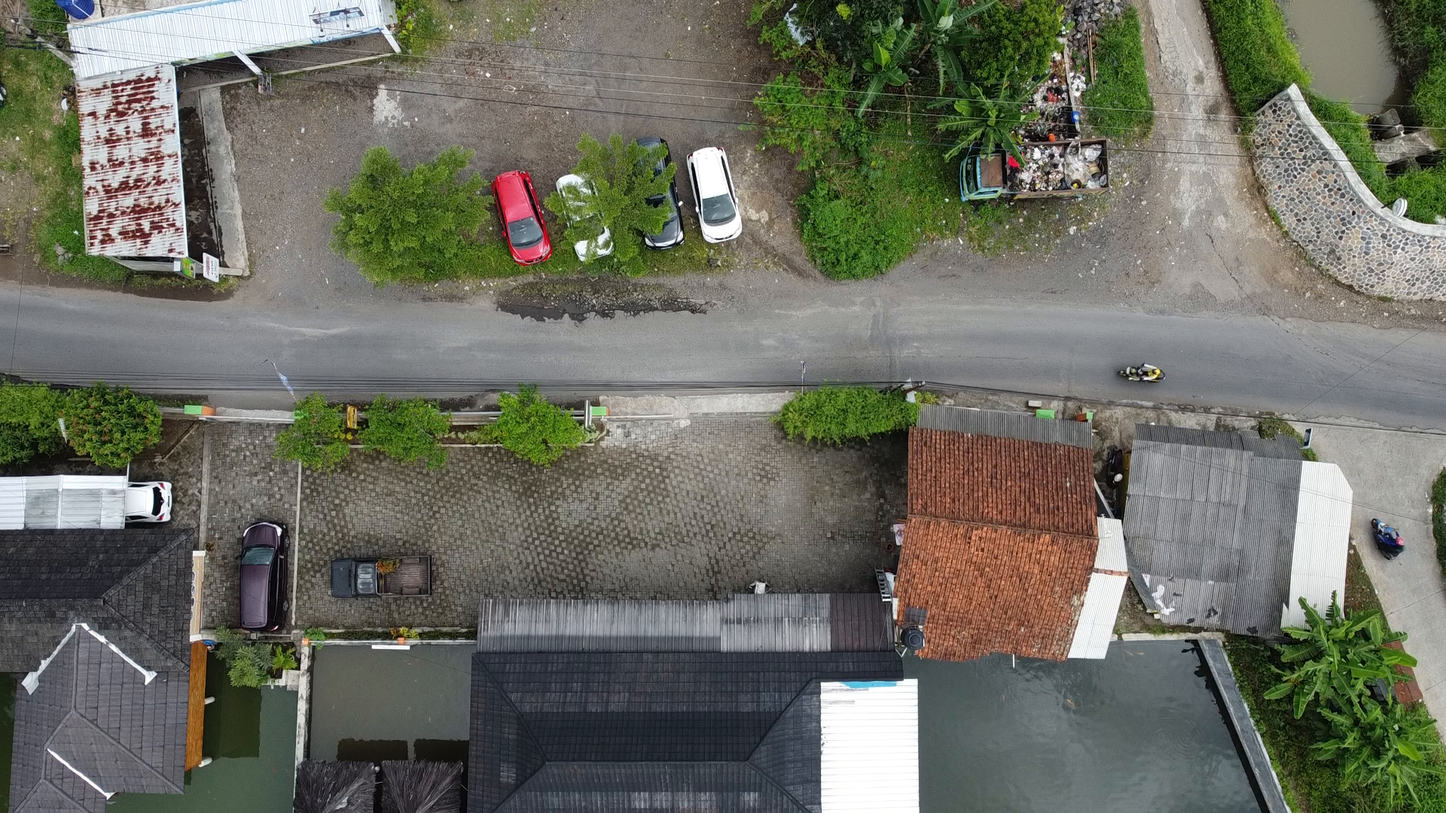mobil: (611, 123, 691, 258), (480, 157, 557, 275), (677, 138, 753, 250), (323, 544, 449, 609), (548, 166, 616, 275), (236, 513, 298, 630), (130, 467, 178, 531)
